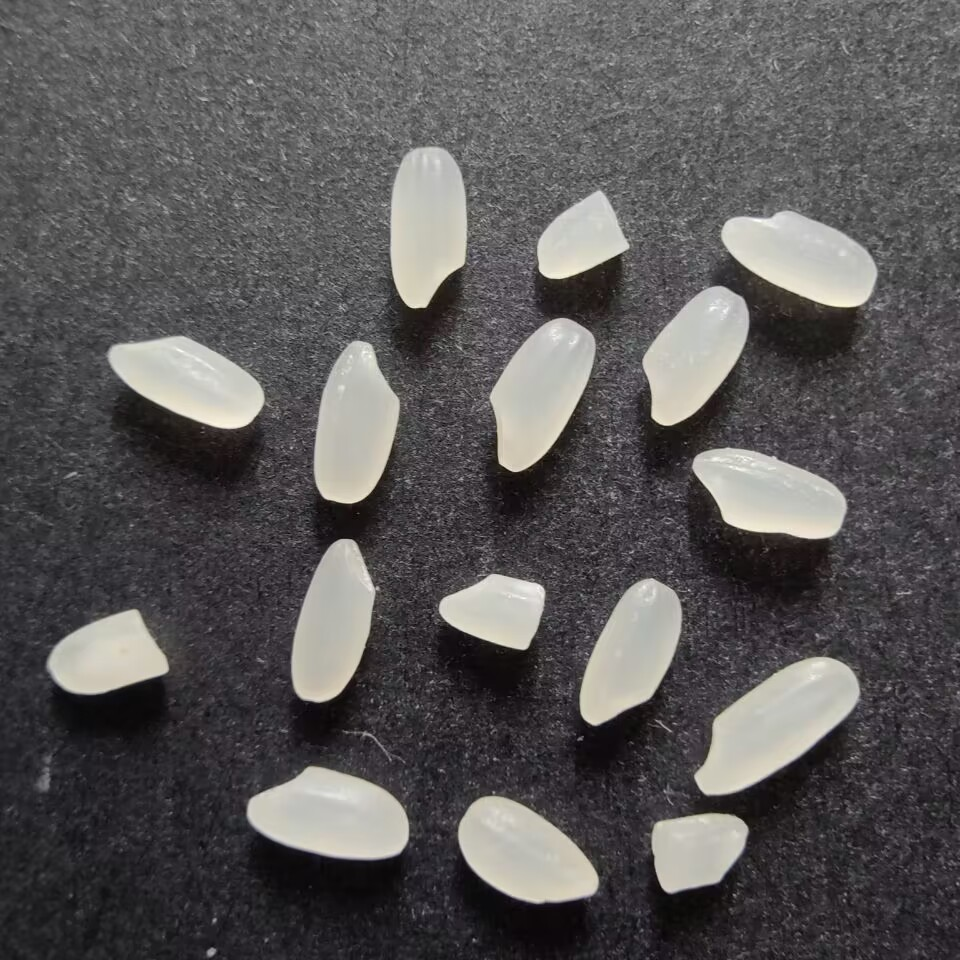broken: (44, 605, 169, 700), (428, 570, 548, 654), (644, 811, 755, 898), (531, 188, 631, 283)
rice: (689, 654, 862, 800), (484, 316, 599, 472), (243, 762, 410, 869), (717, 204, 882, 310), (454, 794, 605, 907), (577, 574, 686, 729), (688, 444, 852, 544), (104, 332, 269, 431), (310, 335, 405, 505), (643, 283, 750, 433), (289, 535, 377, 706), (386, 145, 472, 316)
